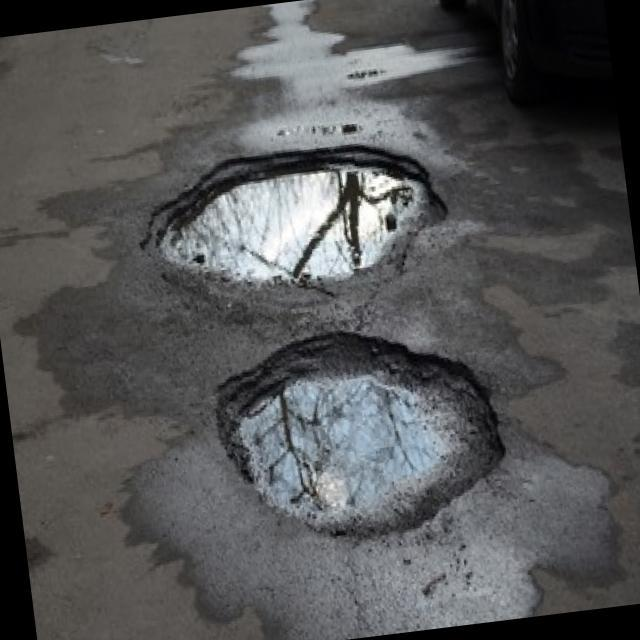Pothole: (206, 314, 516, 558), (136, 130, 460, 325)
